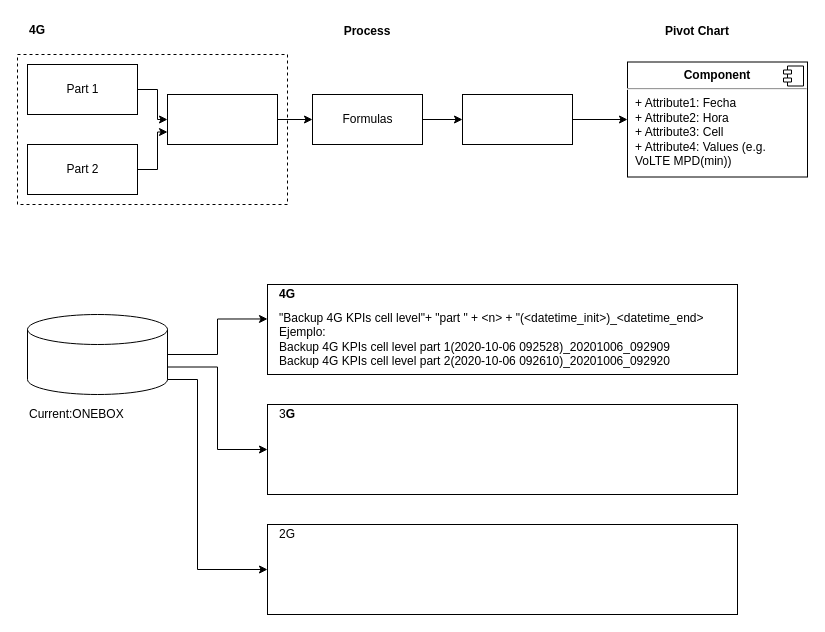
Some shapes in this 825 by 632 pixel diagram are drawn without their labels. The centre of each missing label's shape, as x and y in pixels:
"DB" goes at point (97, 354).
"input" goes at point (222, 119).
"output" goes at point (517, 119).
